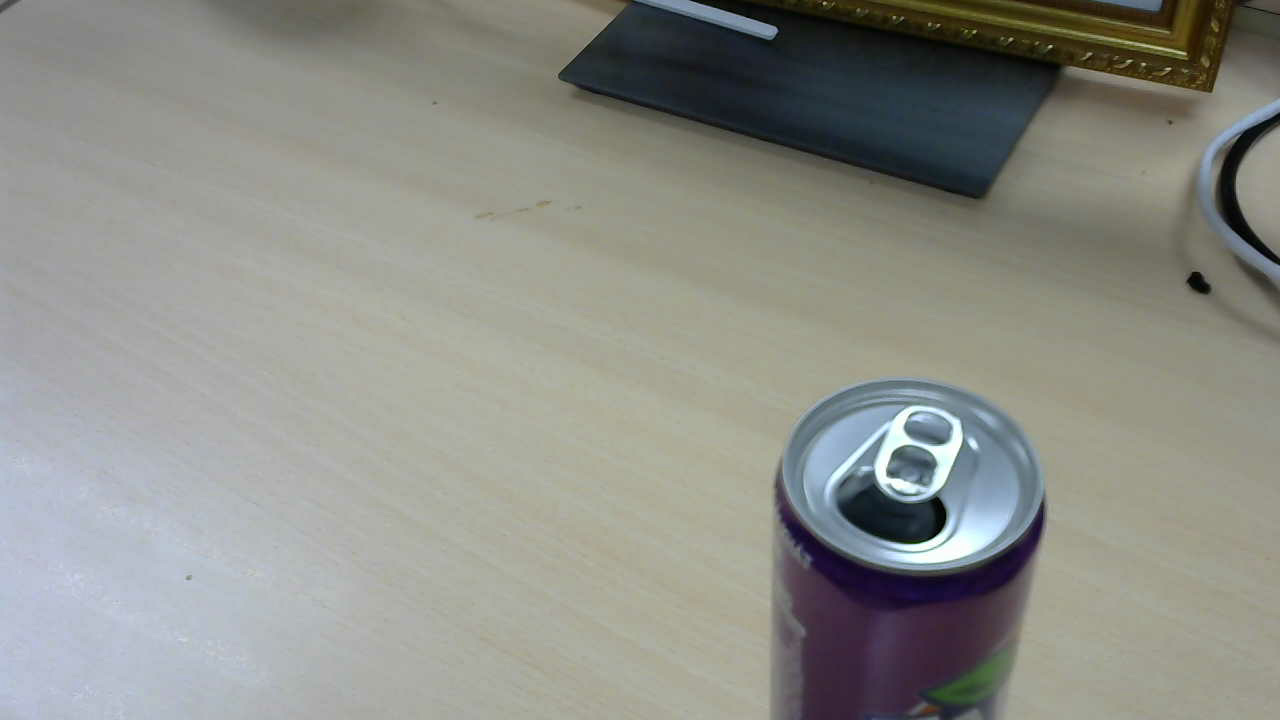Fanta: (779, 383, 1052, 697)
